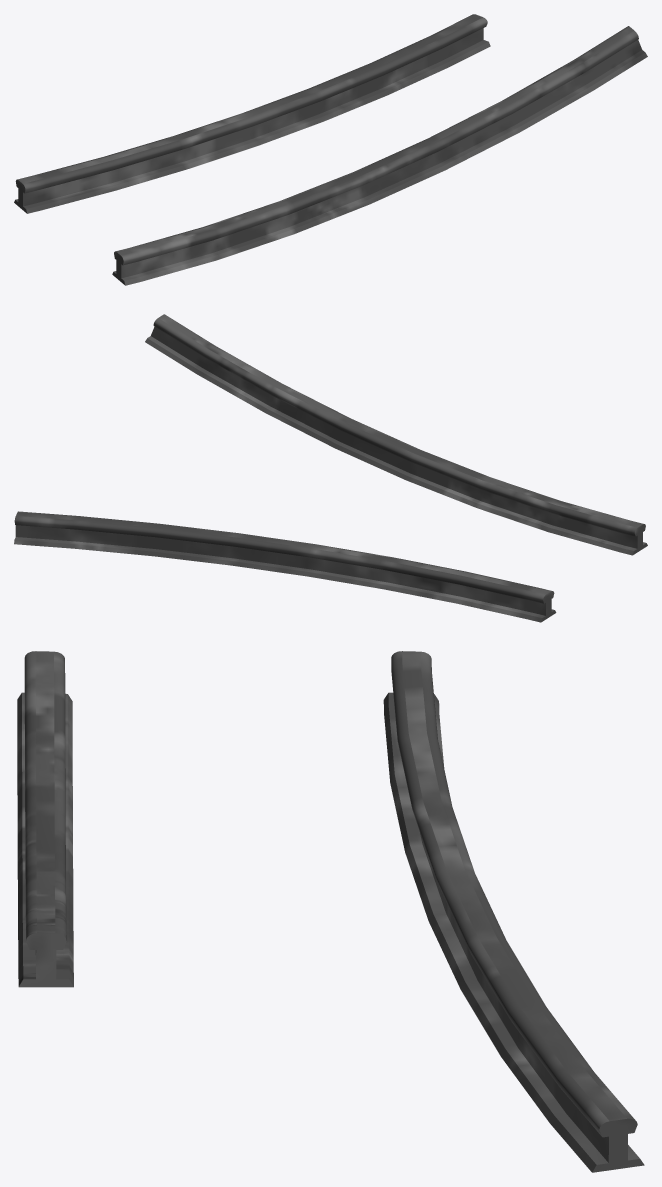
The model's file is Rail Pair 2.fbx.
The picture shows the model from 3 angles, top to bottom: view 1: azimuth 30°, elevation 25°; view 2: azimuth 150°, elevation 25°; view 3: azimuth 270°, elevation 25°; orthographic projection. The views are drawn at different scales.
Visible parts, largest first — view 1: Rail_Pair_2; view 2: Rail_Pair_2; view 3: Rail_Pair_2.
Part boxes in pixels (x1,y1,x2,y2): Rail_Pair_2: (14, 14, 647, 285); Rail_Pair_2: (14, 314, 647, 622); Rail_Pair_2: (17, 651, 644, 1172).
Size of the model in its own units: 349 by 80.25 by 194.
Materials: 1 (1 with a texture image).
